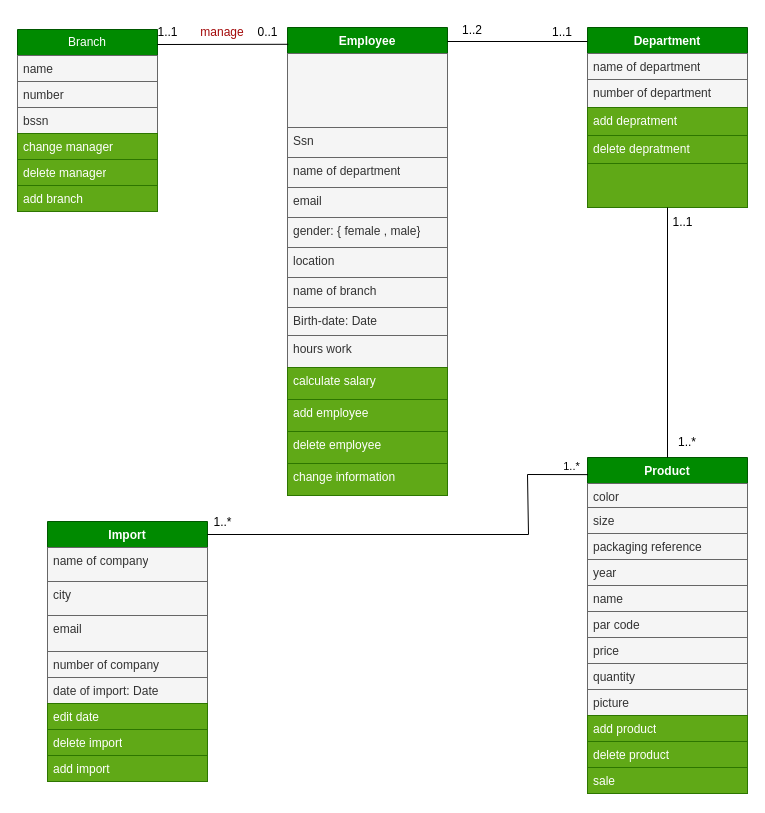
This 765x813 diagram has some shape labels left out. The shapes that lost their labels are listed below. From the top down, each one's centre as x and y in pixels, then its label:
At [517,33]: "works".
At [367,90]: "Name first min last".
At [667,185]: "calculate # of products in each depratment".
